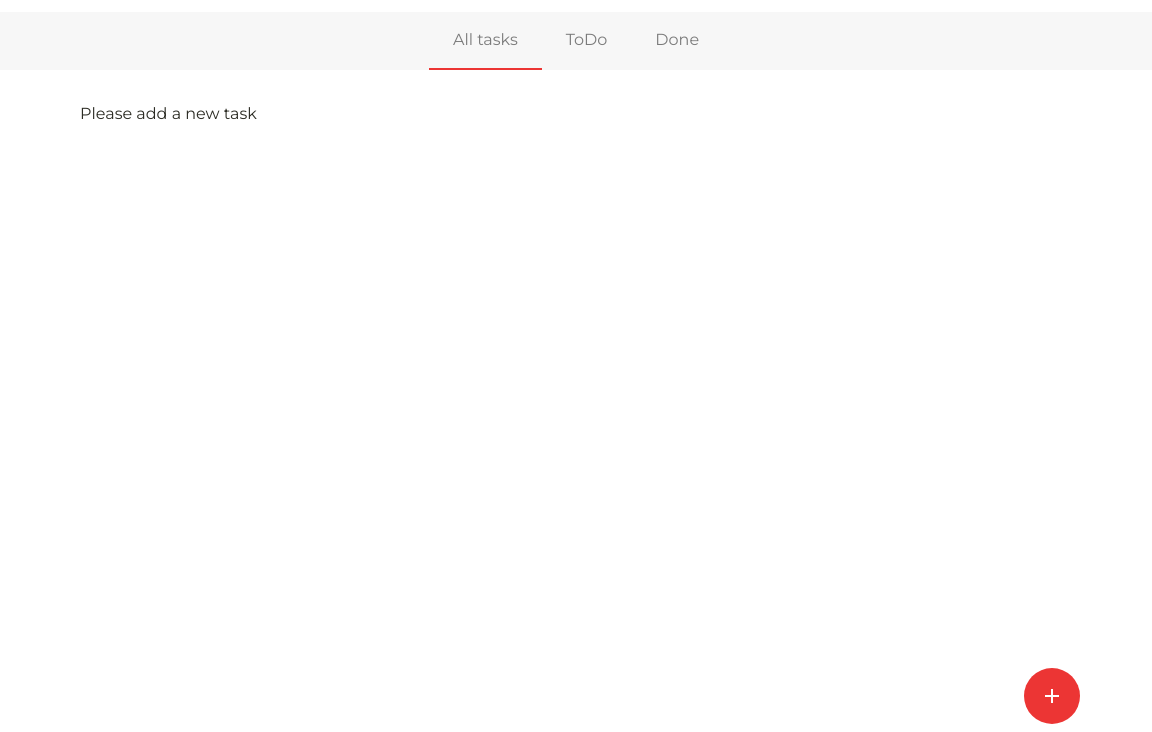
Scenario: Edit task › Task edited
Click the button with id "add-task" at (1052, 696), box top-left (1024, 668), bottom-right (1080, 724)
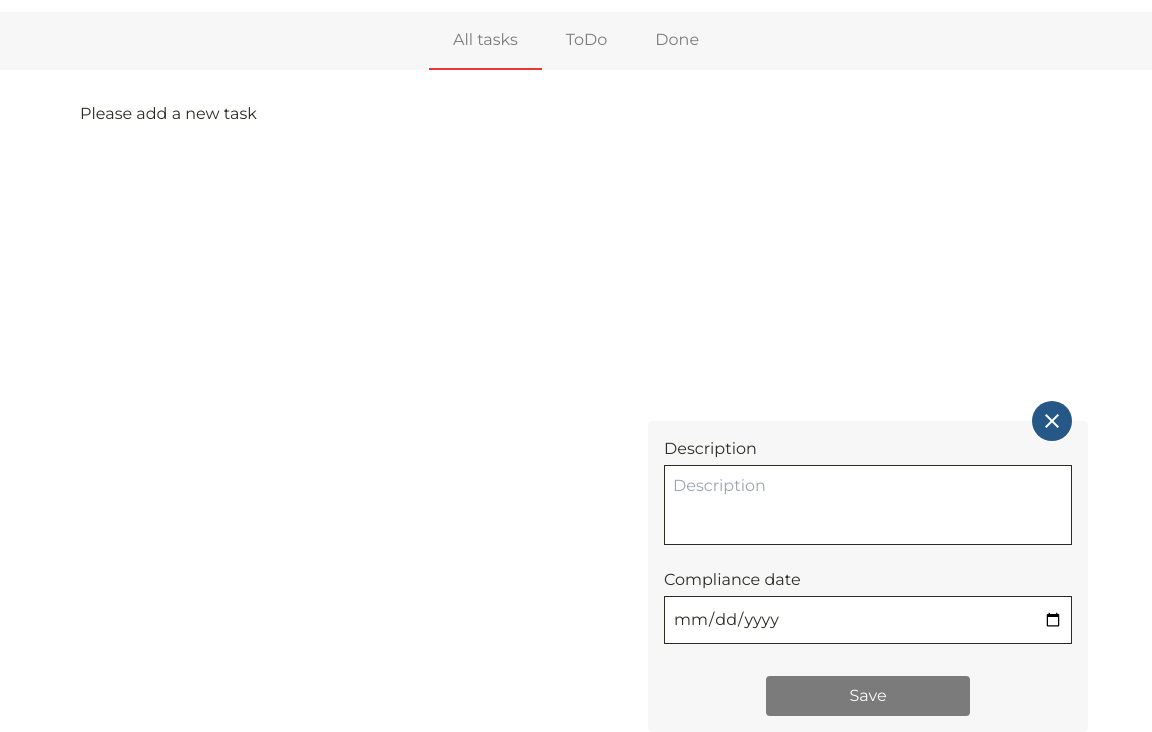
Type "Lorem ipsum dolor" into the text box named "description" at (868, 505), box top-left (664, 465), bottom-right (1072, 545)
Type "3000-12-12" into the date field named "date" at (868, 620), box top-left (664, 596), bottom-right (1072, 644)
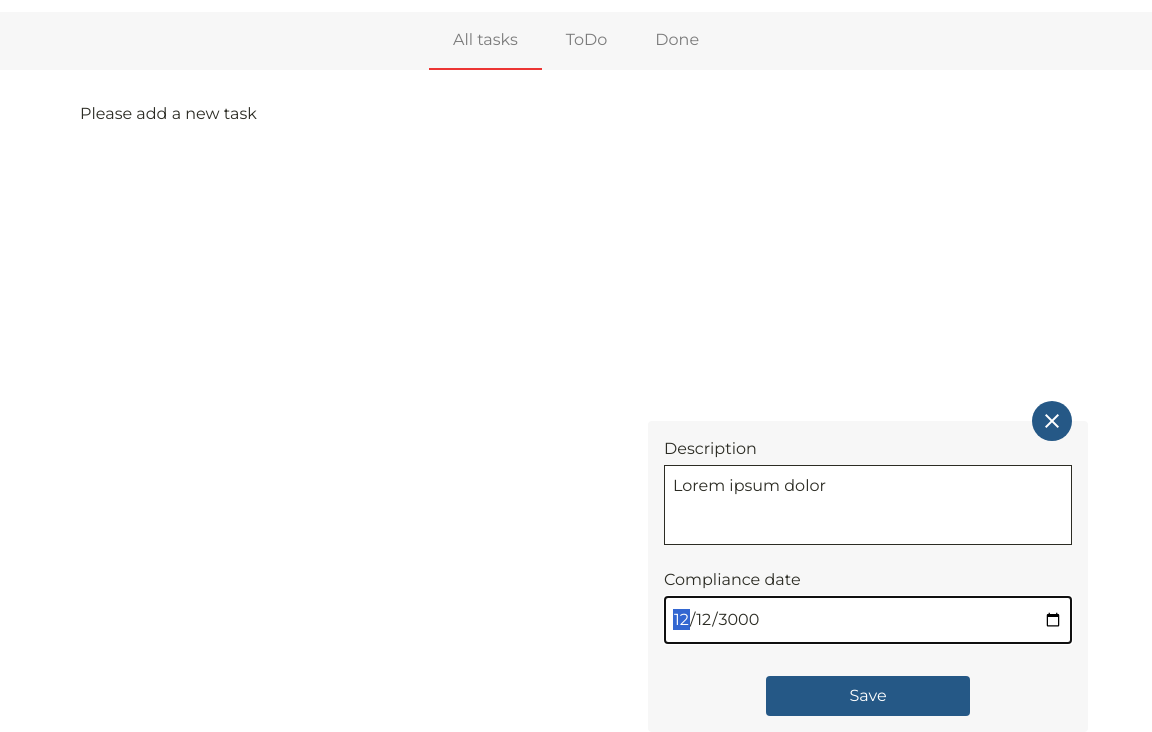
Click the button "Save" at (868, 696), box top-left (766, 676), bottom-right (970, 716)
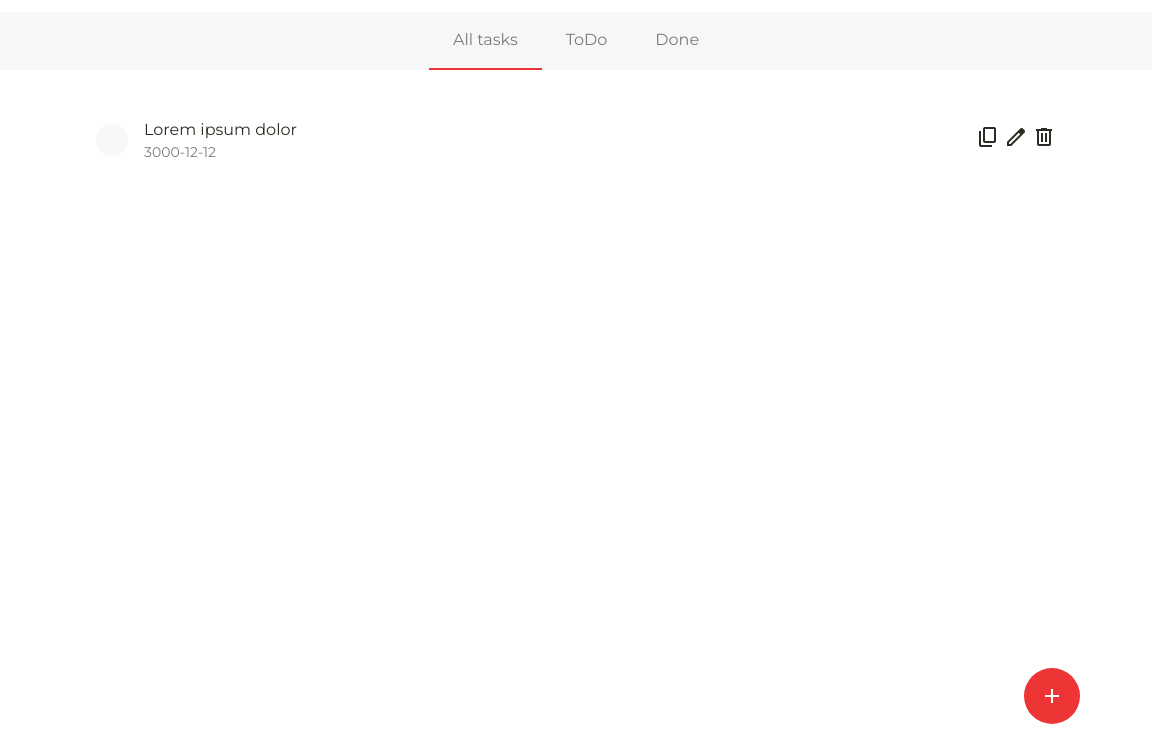
Click the 3rd button "edit" at (1016, 141), box top-left (1004, 125), bottom-right (1028, 156)
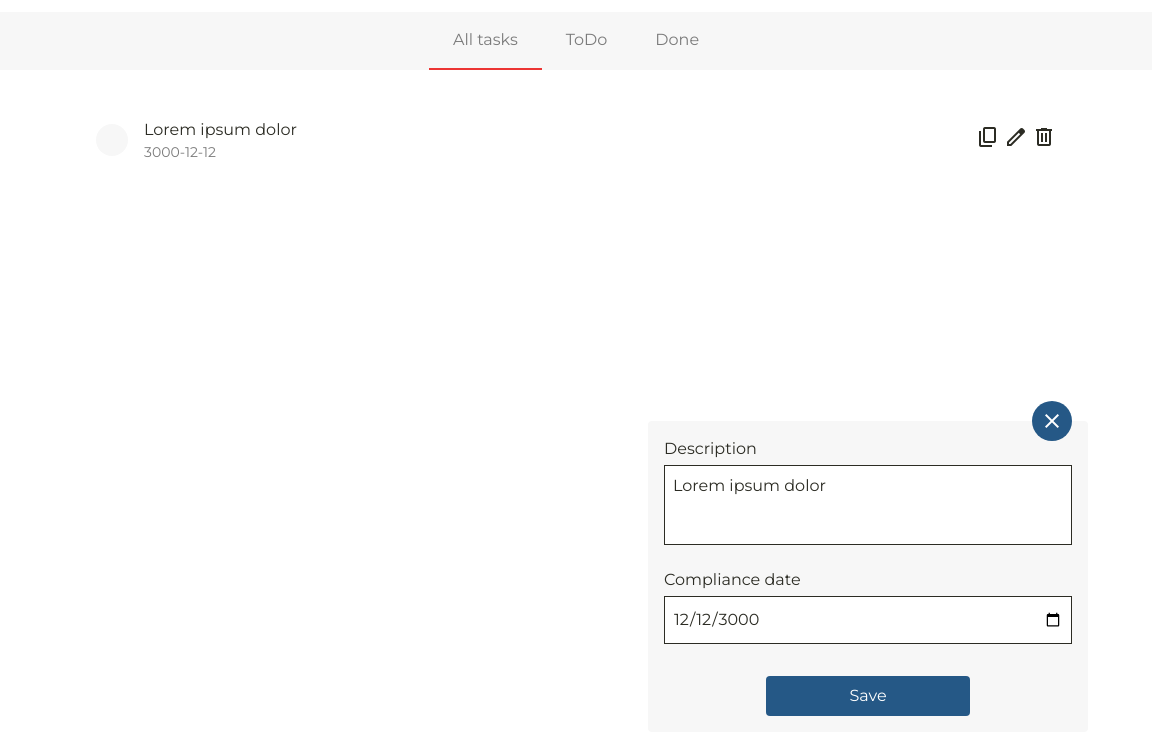
Type "Lorem ipsum dolor sit amet, consectetur adipiscing elit. Sed condimentum purus sit amet dolor ultricies" into the text box named "description" at (868, 505), box top-left (664, 465), bottom-right (1072, 545)
Type "3001-01-01" into the date field named "date" at (868, 620), box top-left (664, 596), bottom-right (1072, 644)
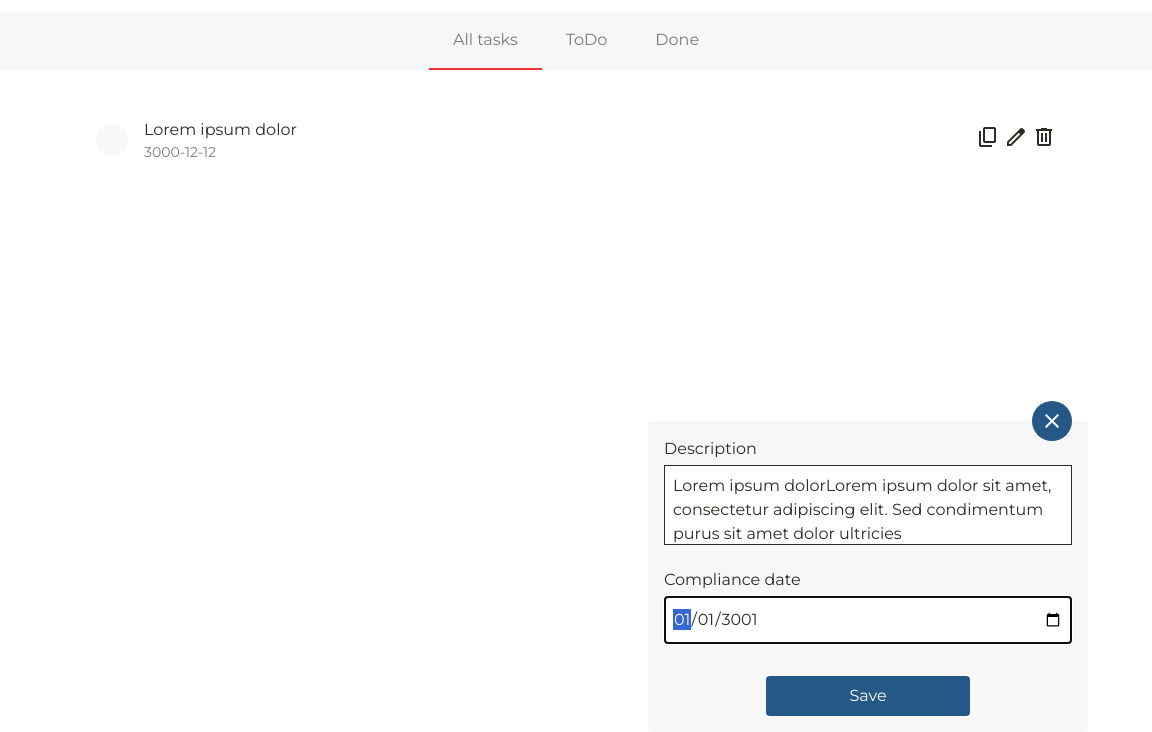
Click the button "Save" at (868, 696), box top-left (766, 676), bottom-right (970, 716)
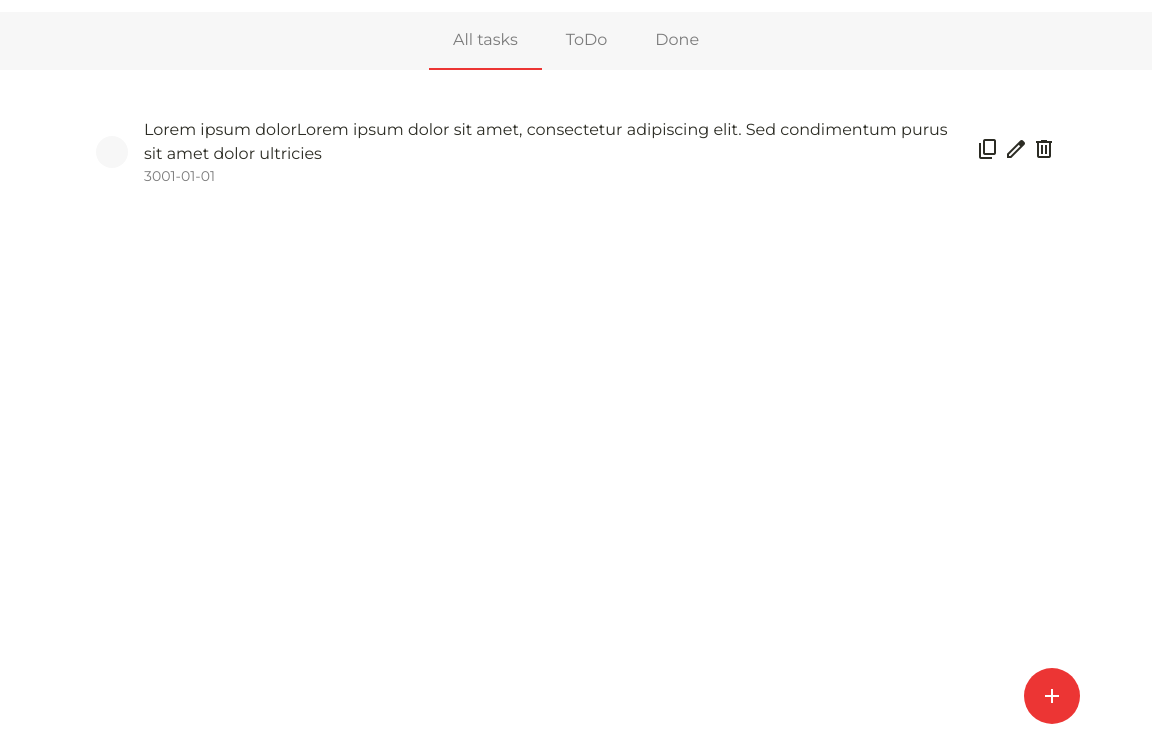
Check: the text with id "to-do-list" shows "Lorem ipsum dolor sit amet, consectetur adipiscing elit. Sed condimentum purus sit amet dolor ultricies", box top-left (144, 120), bottom-right (948, 163)
Check: the text with id "to-do-list" reads "3001-01-01", box top-left (144, 167), bottom-right (215, 185)
